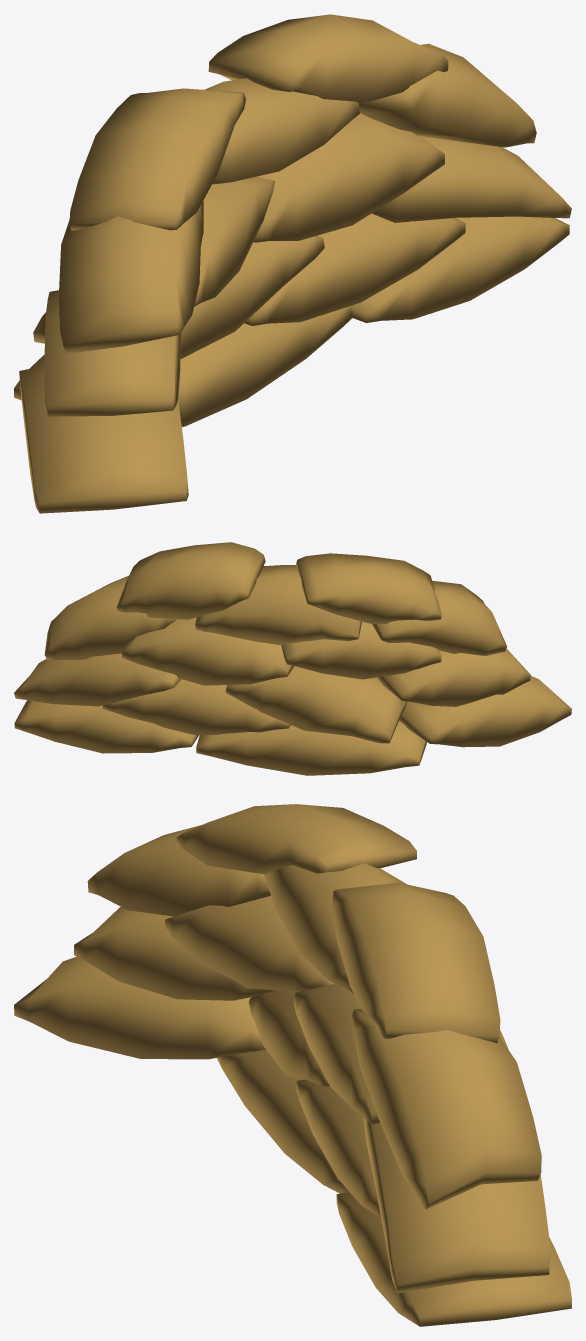
Rendered from sandbags.FBX.
The picture shows the model from 3 angles, top to bottom: view 1: azimuth 30°, elevation 25°; view 2: azimuth 150°, elevation 25°; view 3: azimuth 270°, elevation 25°; orthographic projection. The views are drawn at different scales.
Visible parts, largest first — view 1: trench bags; view 2: trench bags; view 3: trench bags.
Part boxes in pixels (x1,y1,x2,y2): trench bags: [14, 14, 571, 513]; trench bags: [14, 542, 571, 775]; trench bags: [14, 804, 571, 1326].
Size of the model in its own units: 7.81 by 3.32 by 5.24.
1 material, 1 textured.
